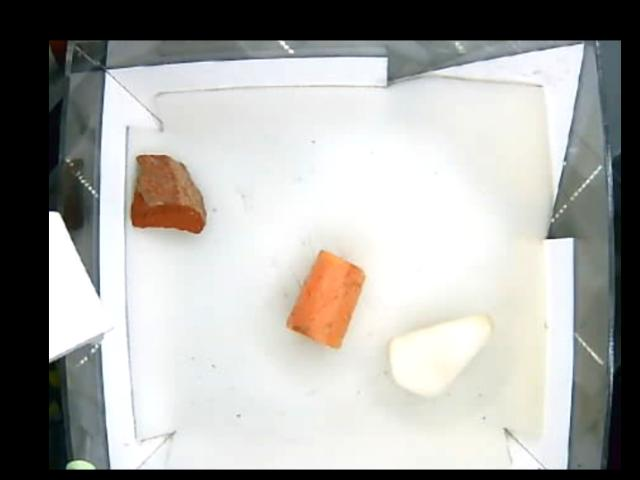Brisk: (132, 154, 208, 233)
Carrot: (289, 248, 364, 351)
Mooli: (385, 314, 495, 400)
